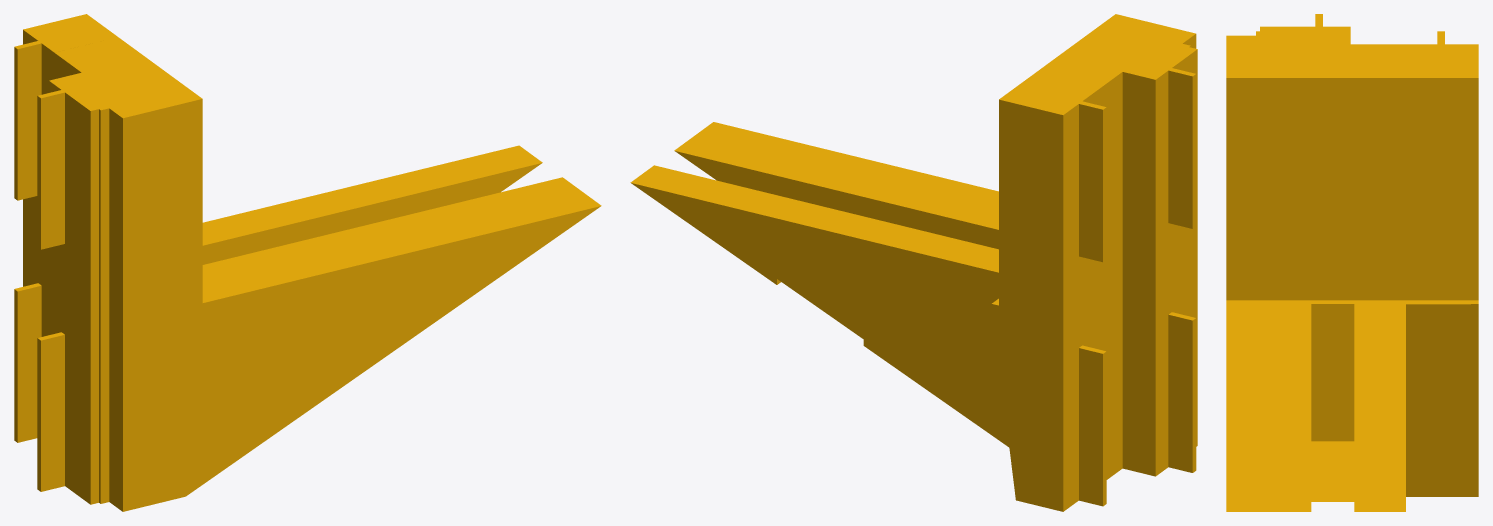
The model's file is transmission_hinge.obj.
3 renders of one model, left to right at view 1: azimuth 30°, elevation 25°; view 2: azimuth 150°, elevation 25°; view 3: azimuth 270°, elevation 25°, orthographic. The views are drawn at different scales.
Visible parts, largest first — view 1: mesh976, mesh972, mesh983, mesh951, mesh958, mesh996, mesh979, mesh973, mesh980, mesh998, mesh1004, mesh982 (+8 smaller); view 2: mesh955, mesh935, mesh994, mesh995, mesh951, mesh972, mesh969, mesh996, mesh1002, mesh973, mesh1005, mesh997 (+7 smaller); view 3: mesh938, mesh933, mesh972, mesh946, mesh971, mesh951, mesh974, mesh996, mesh973, mesh948, mesh964, mesh966 (+11 smaller).
Boxes of the visible parts, x1=… form: mesh976: x1=123, y1=99, x2=600, y2=511; mesh972: x1=202, y1=177, x2=587, y2=289; mesh983: x1=67, y1=94, x2=90, y2=504; mesh951: x1=202, y1=145, x2=542, y2=245; mesh958: x1=202, y1=163, x2=541, y2=264; mesh996: x1=38, y1=38, x2=188, y2=110; mesh979: x1=109, y1=108, x2=122, y2=511; mesh973: x1=202, y1=196, x2=601, y2=302; mesh980: x1=100, y1=108, x2=109, y2=503; mesh998: x1=41, y1=92, x2=64, y2=249; mesh1004: x1=41, y1=335, x2=64, y2=491; mesh982: x1=90, y1=109, x2=98, y2=504; mesh955: x1=631, y1=183, x2=1009, y2=447; mesh935: x1=991, y1=99, x2=1063, y2=511; mesh994: x1=1063, y1=72, x2=1122, y2=511; mesh995: x1=1122, y1=72, x2=1155, y2=476; mesh951: x1=630, y1=165, x2=998, y2=272; mesh972: x1=674, y1=132, x2=998, y2=229; mesh969: x1=675, y1=151, x2=998, y2=249; mesh996: x1=1033, y1=24, x2=1197, y2=90; mesh1002: x1=1155, y1=71, x2=1168, y2=476; mesh973: x1=700, y1=122, x2=998, y2=204; mesh1005: x1=1168, y1=314, x2=1192, y2=472; mesh997: x1=1168, y1=70, x2=1192, y2=228; mesh938: x1=1410, y1=78, x2=1478, y2=300; mesh933: x1=1410, y1=304, x2=1478, y2=496; mesh972: x1=1256, y1=300, x2=1311, y2=511; mesh946: x1=1354, y1=78, x2=1405, y2=300; mesh971: x1=1260, y1=78, x2=1311, y2=300; mesh951: x1=1354, y1=300, x2=1405, y2=511; mesh974: x1=1226, y1=78, x2=1259, y2=300; mesh996: x1=1256, y1=14, x2=1405, y2=77; mesh973: x1=1226, y1=300, x2=1255, y2=511; mesh948: x1=1323, y1=78, x2=1350, y2=300; mesh964: x1=1323, y1=304, x2=1350, y2=441; mesh966: x1=1311, y1=441, x2=1354, y2=501.
Size of the model in its own units: 0.00216 by 0.00156 by 0.000833.
